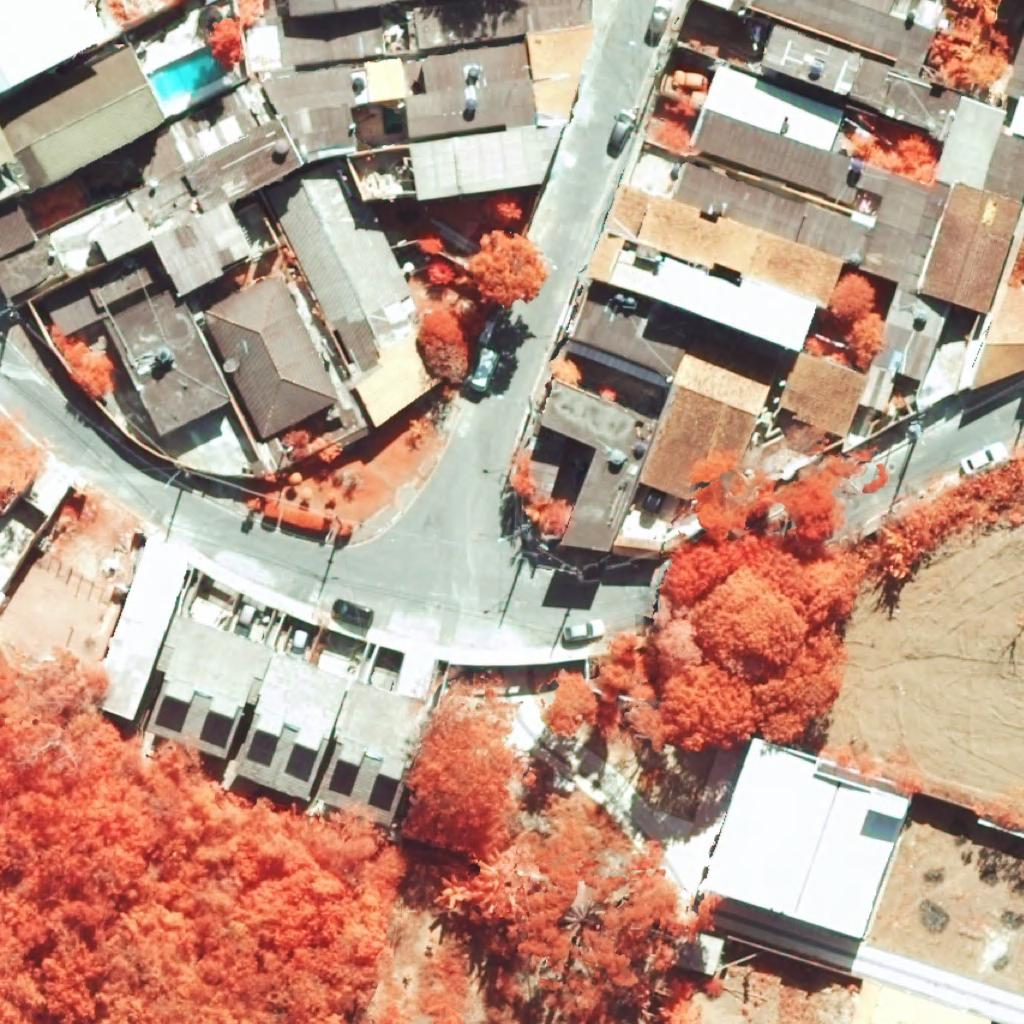pool: (147, 46, 226, 102)
